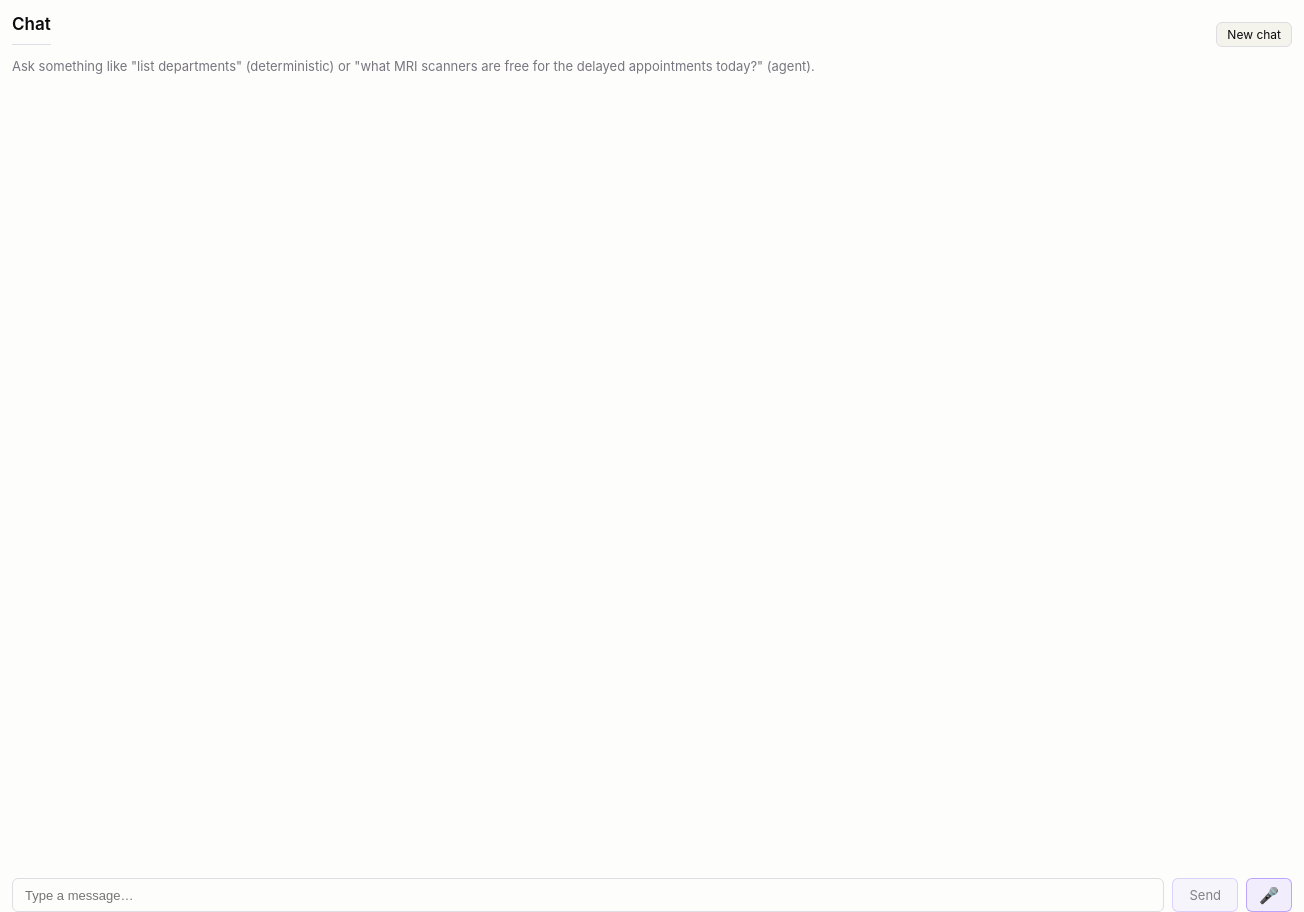
Test: RescheduleConfirmation in the chat › Confirm posts the right ids, shows the message, removes the card and reports touched codes
The width and height of the screenshot is (1304, 912).
Type "move APT-2001" into the field with placeholder "Type a message…" at (588,895), box [12,878,1164,911]
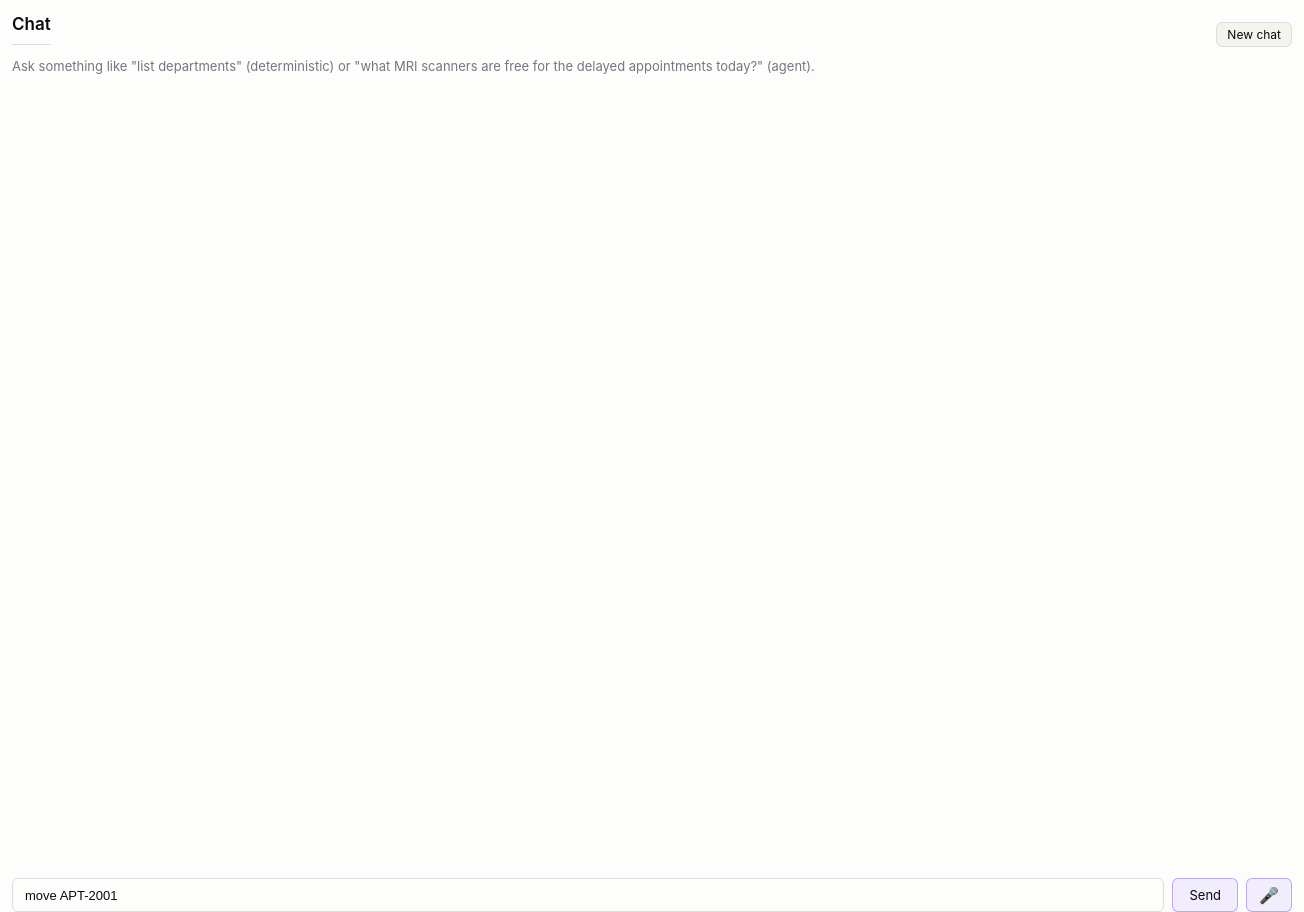
Click the button "Send" at (1205,895), box [1172,878,1238,911]
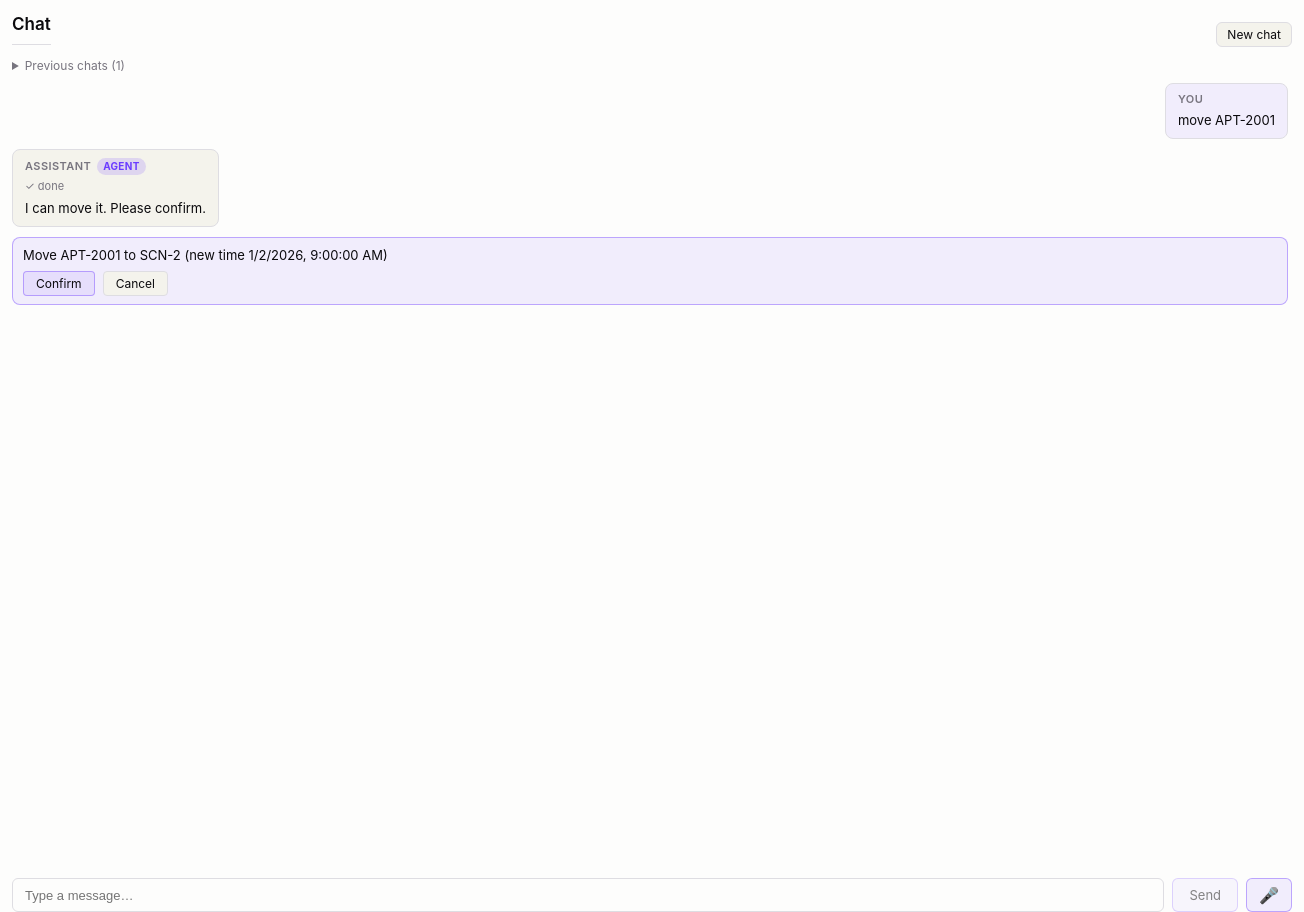
Check: the text "I can move it. Please confirm." is shown, box [25,199,206,218]
Click the button with aria-label "Confirm moving APT-2001 to SCN-2" at (59,284), box [23,271,95,296]
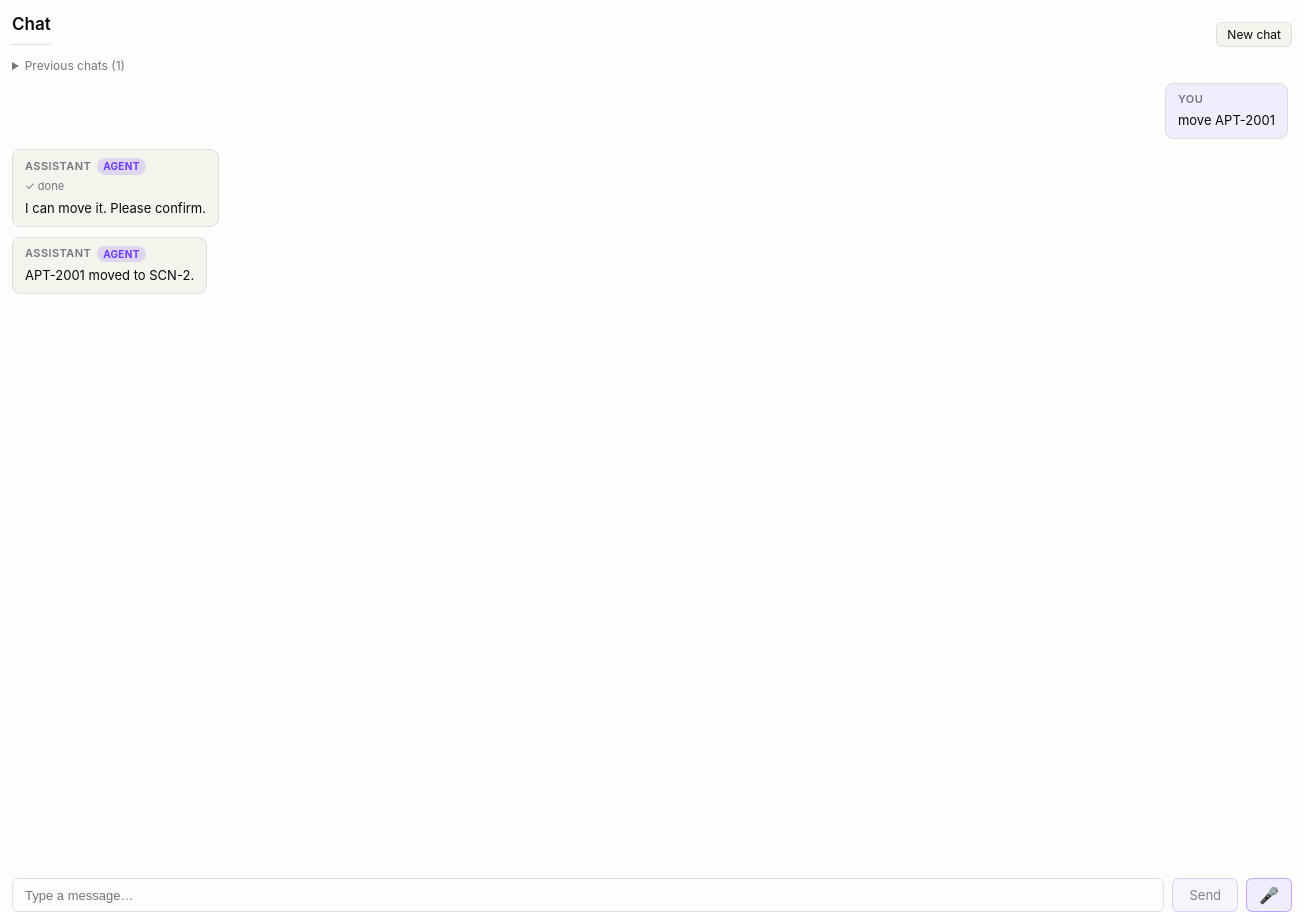
Check: the text "APT-2001 moved to SCN-2." is shown, box [25,266,194,285]
